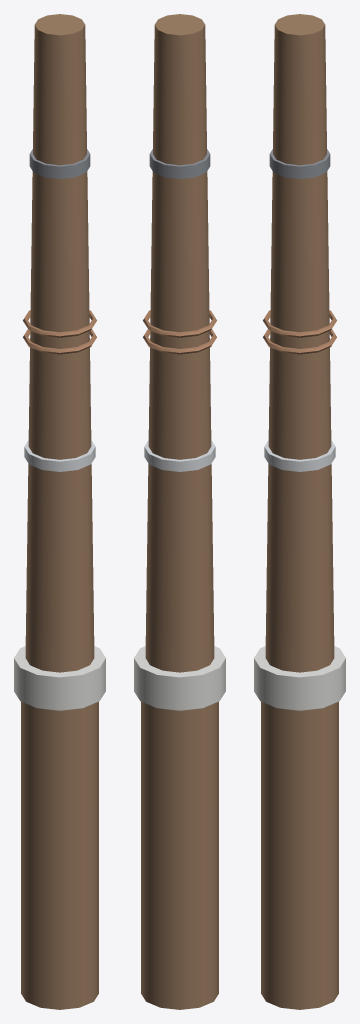
Rendered from Piling.fbx.
3 views of the same model, side by side, from view 1: azimuth 90°, elevation 25°; view 2: azimuth 150°, elevation 25°; view 3: azimuth 270°, elevation 25° (orthographic).
Parts seen in each view (by area): view 1: LOD0; view 2: LOD0; view 3: LOD0.
Boxes of the visible parts, left/top/right/bottom form: LOD0: left=14, top=14, right=105, bottom=1009; LOD0: left=134, top=14, right=225, bottom=1009; LOD0: left=254, top=14, right=345, bottom=1009.
Size of what is drawn, in the model's own units: 40 by 465 by 40.
